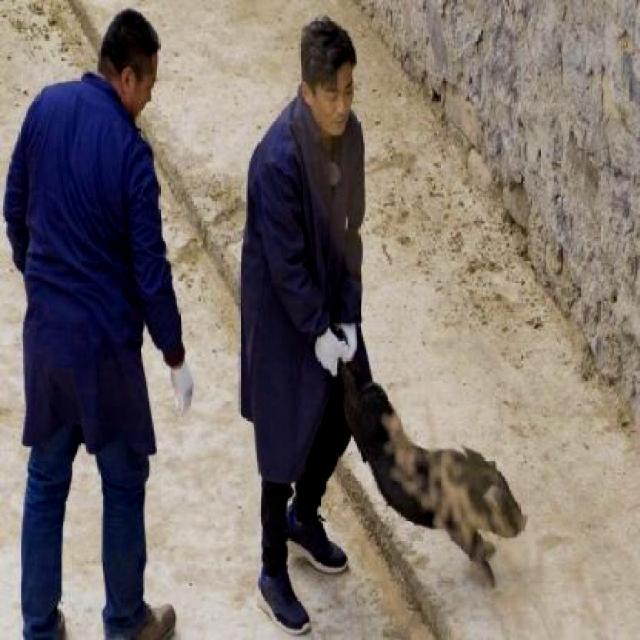face_nomask: (298, 75, 362, 131), (118, 57, 162, 128)
hand_glove: (168, 363, 197, 417), (314, 332, 341, 377), (334, 315, 357, 363)
head_nohelmet: (94, 14, 169, 66), (292, 26, 357, 79)
person: (8, 14, 195, 640), (248, 17, 408, 621)
shoes: (274, 497, 352, 575), (252, 568, 314, 637)
